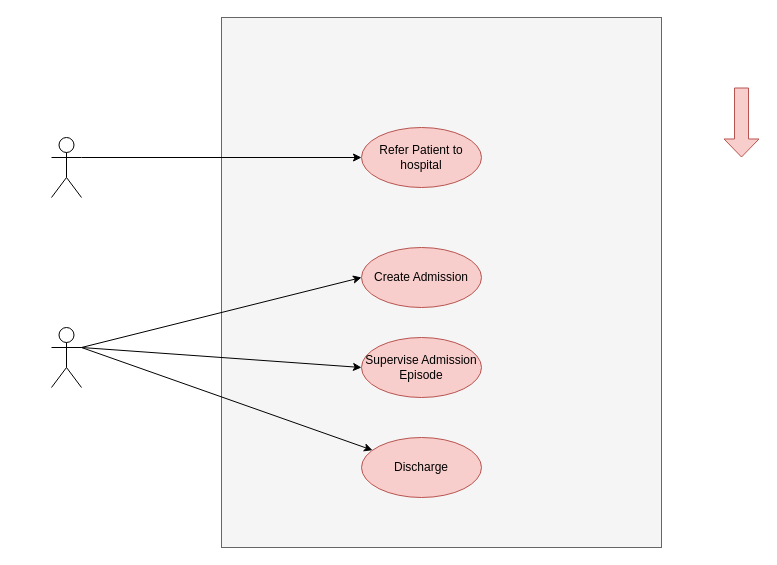
The diagram is 777 pixels wide and 565 high, and some of its shapes have lost their labels. The shapes that lost their labels are listed below. From the top down, each one's centre as x and y in pixels, then its label:
[66,167]: Community Doctor
[66,357]: Hospital Doctor
